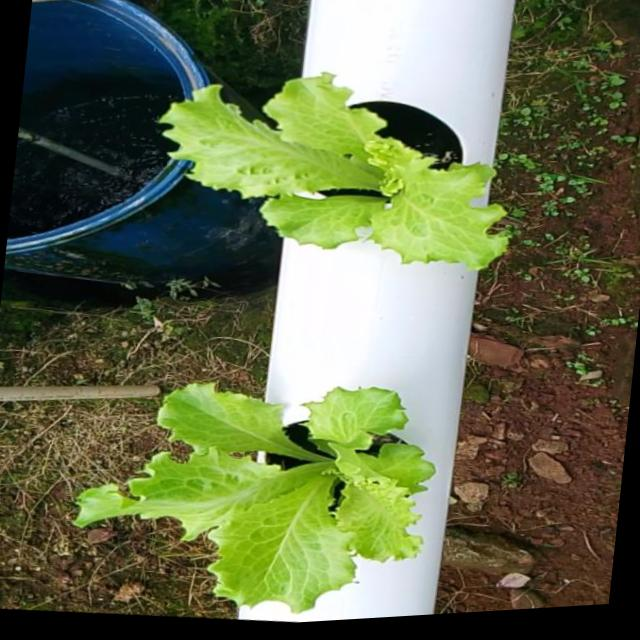Baby: (72, 377, 434, 610), (160, 62, 510, 261)
